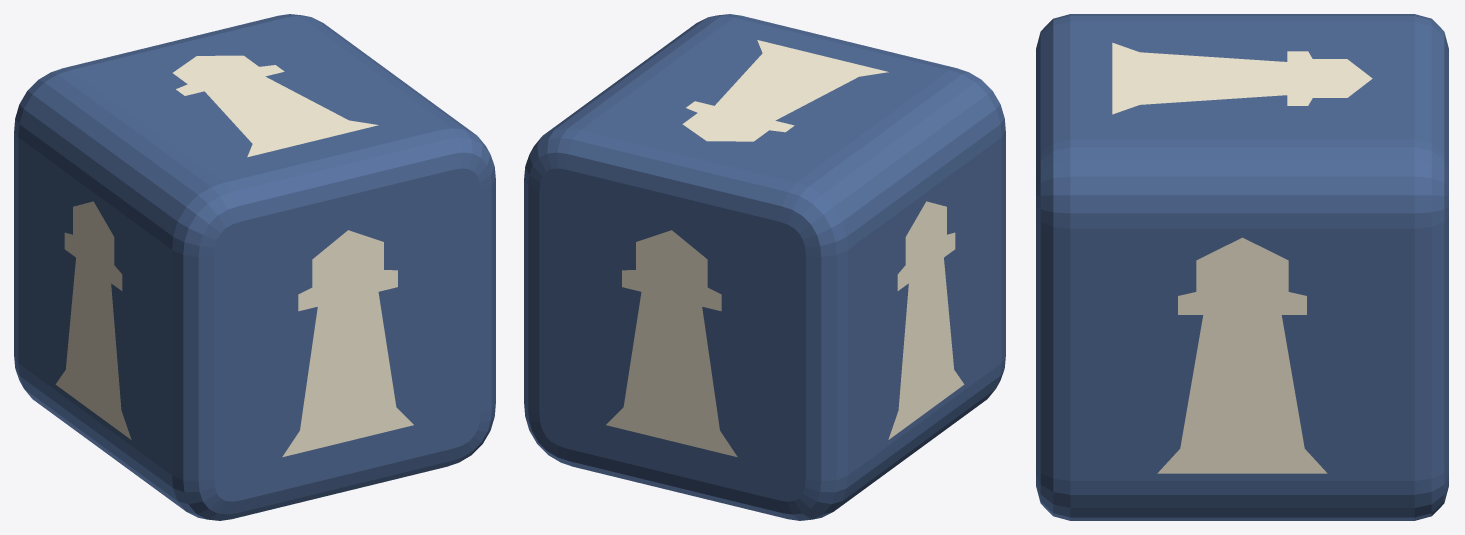
Rendered from budget-marker-4.glb.
The picture shows the model from 3 angles, left to right: view 1: azimuth 30°, elevation 25°; view 2: azimuth 150°, elevation 25°; view 3: azimuth 270°, elevation 25°; orthographic projection. The views are drawn at different scales.
Parts seen in each view (by area): view 1: budget-marker-4; view 2: budget-marker-4; view 3: budget-marker-4.
Part boxes in pixels (x1,y1,x2,y2): budget-marker-4: [14, 14, 495, 520]; budget-marker-4: [524, 14, 1005, 520]; budget-marker-4: [1036, 14, 1448, 520].
Bounding box in the file's own units: 0.008 × 0.008 × 0.008.
